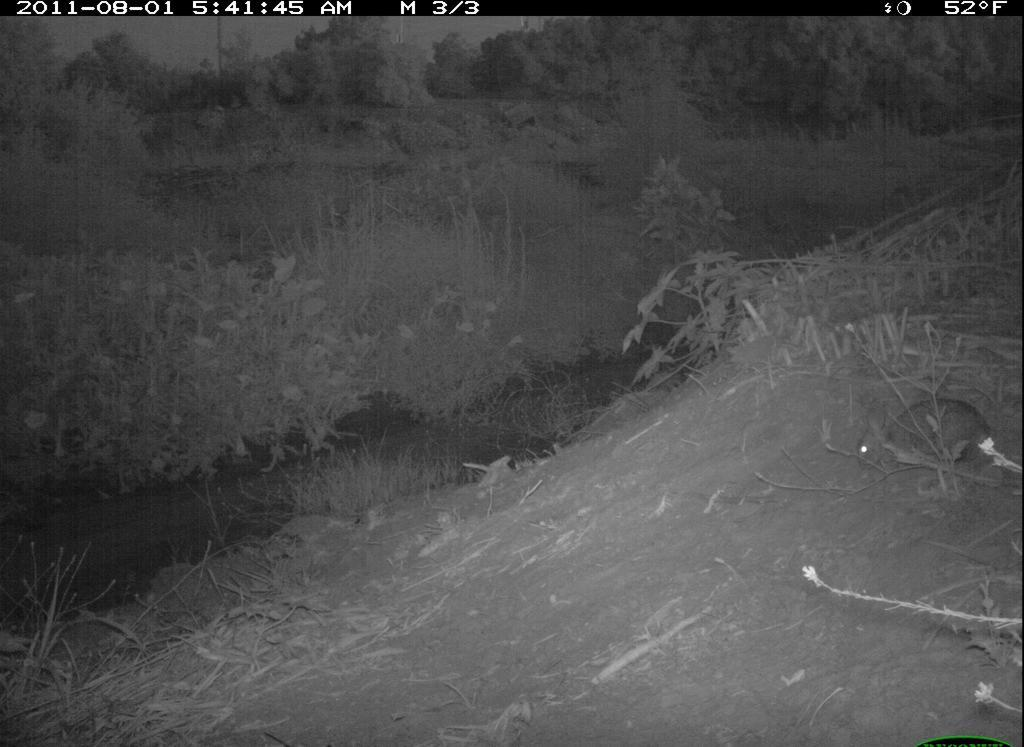rabbit: (856, 381, 1010, 478)
